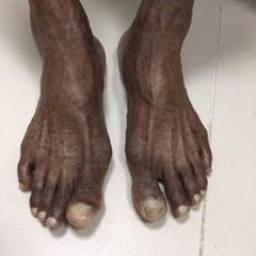Dorsal View -Both Feet-: (5, 10, 219, 232)
